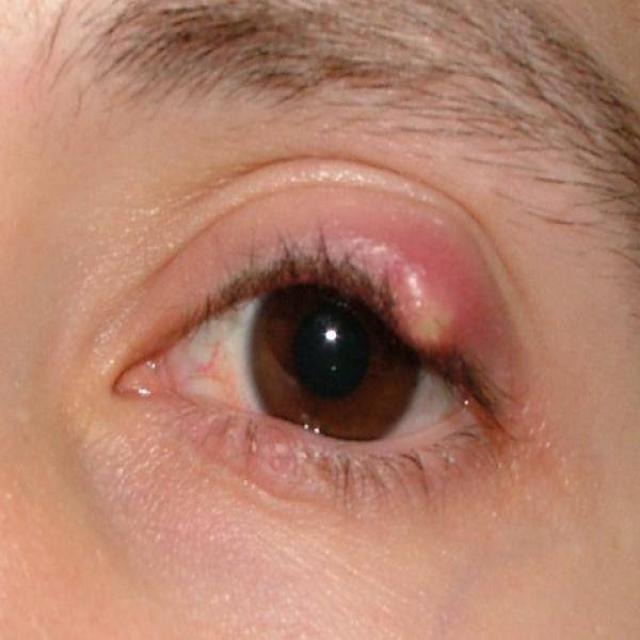Chalazion: (132, 173, 523, 502)
